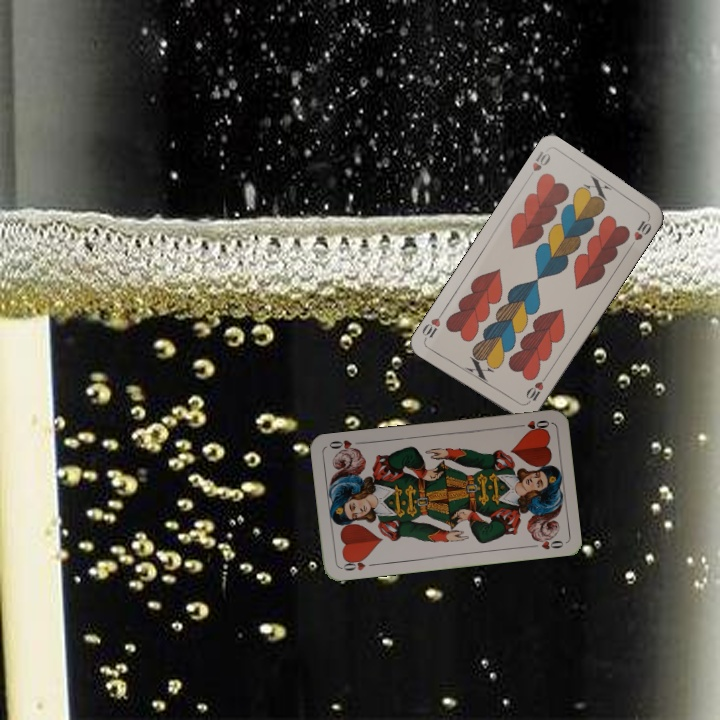H10: (521, 372, 549, 408), (528, 147, 553, 174)
HO: (338, 554, 378, 574), (512, 416, 552, 434)
